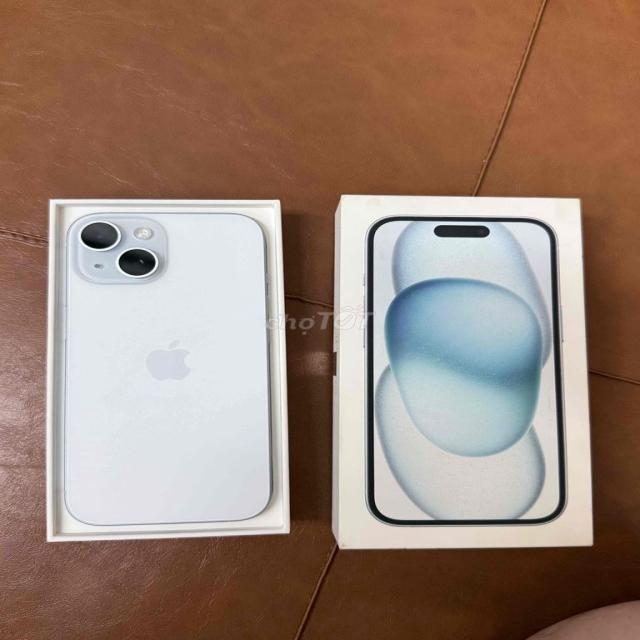gen_15: (58, 203, 279, 536)
